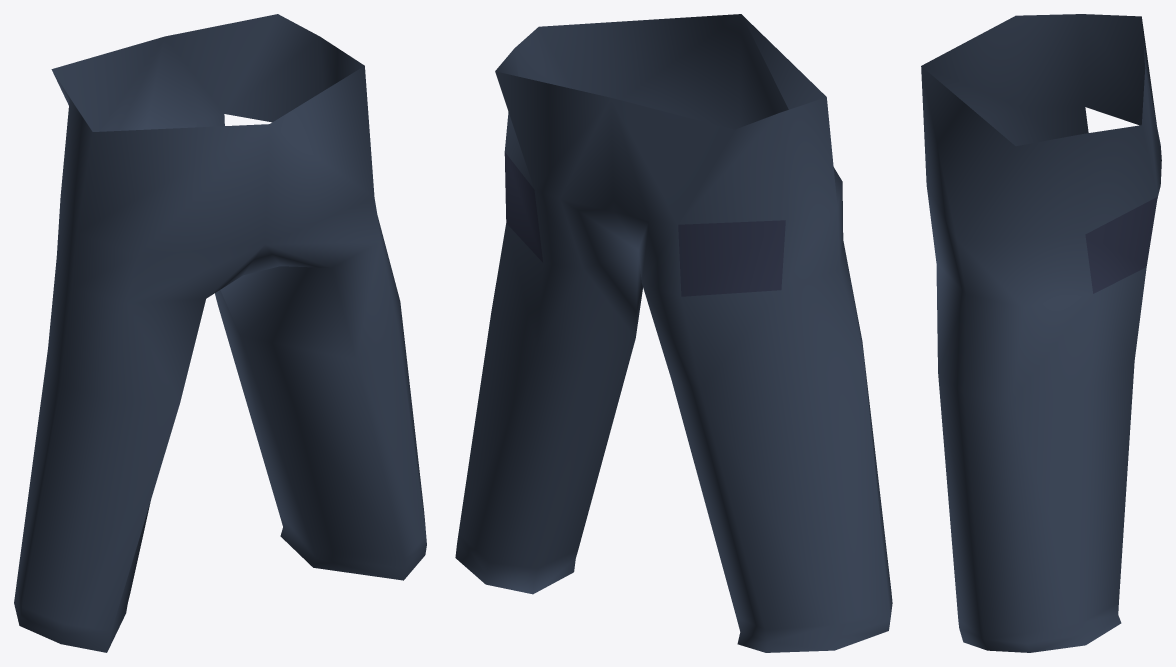
The model's file is blue_jeans.obj.
The picture shows the model from 3 angles, left to right: view 1: azimuth 30°, elevation 25°; view 2: azimuth 150°, elevation 25°; view 3: azimuth 270°, elevation 25°; orthographic projection. The views are drawn at different scales.
Visible parts, largest first — view 1: Mesh1 Group1 Model; view 2: Mesh1 Group1 Model; view 3: Mesh1 Group1 Model.
Part boxes in pixels (left/top/right/bottom): Mesh1 Group1 Model: left=14, top=14, right=426, bottom=652; Mesh1 Group1 Model: left=455, top=14, right=892, bottom=652; Mesh1 Group1 Model: left=921, top=14, right=1161, bottom=652.
Size of the model in its own units: 168 by 203 by 87.89.
